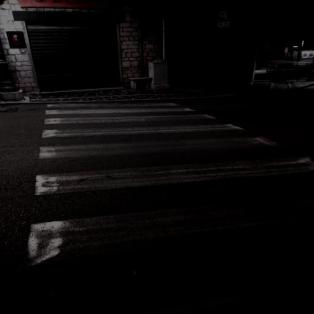Paso de Cebra: (28, 122, 288, 163), (39, 100, 199, 115)
